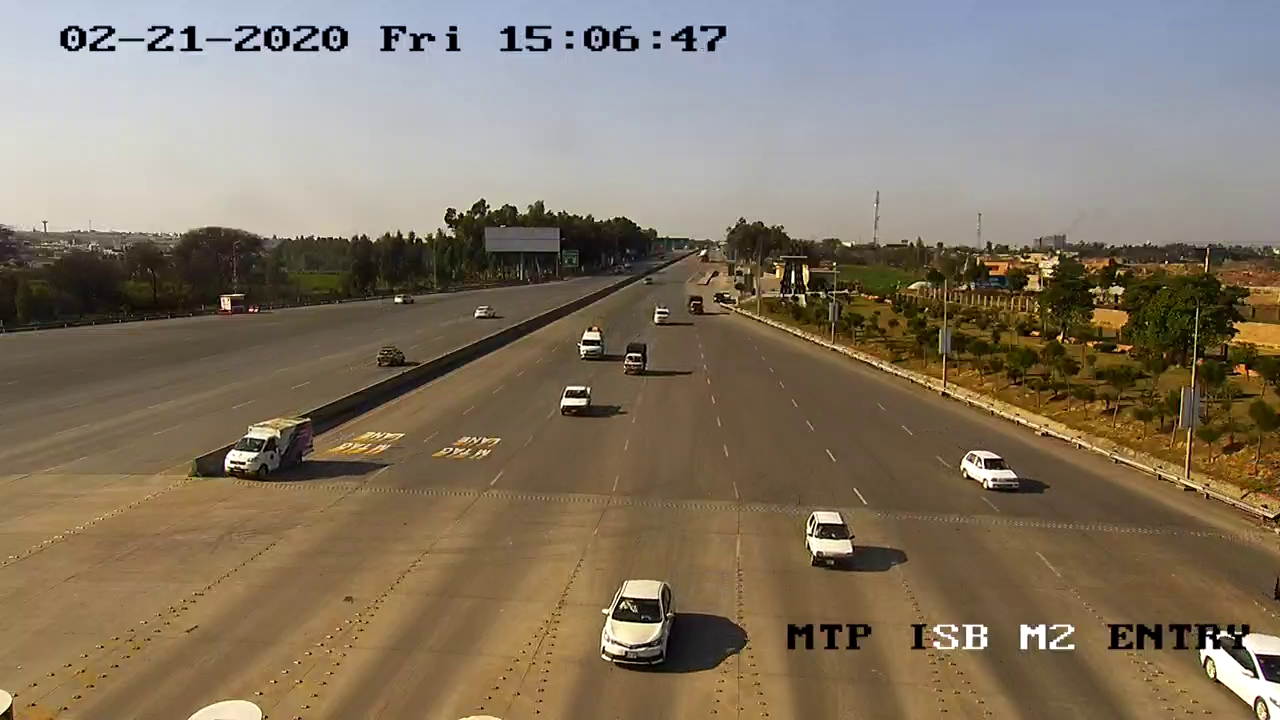f1: (585, 574, 683, 672), (794, 494, 866, 578), (952, 443, 1026, 498), (548, 381, 599, 428)
f2: (217, 412, 317, 492)
